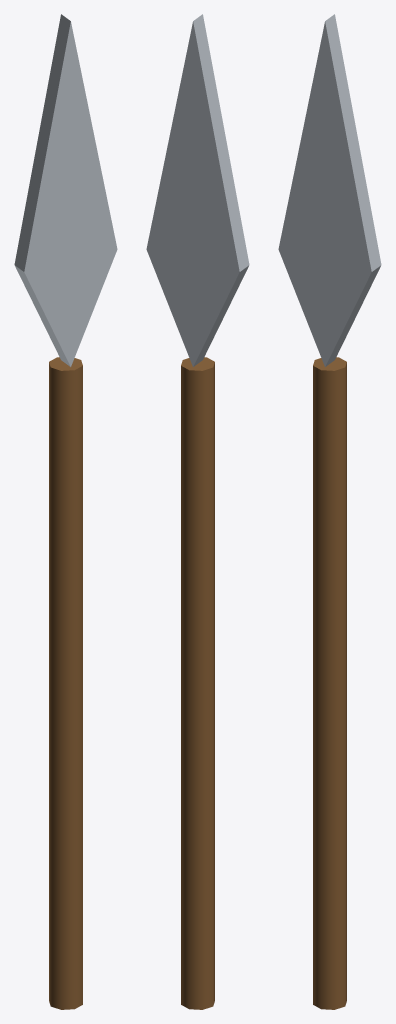
The model's file is zulu-iklwa.glb.
3 views of the same model, side by side, from view 1: azimuth 30°, elevation 25°; view 2: azimuth 150°, elevation 25°; view 3: azimuth 330°, elevation 25° (orthographic).
Parts seen in each view (by area): view 1: Haft, Blade; view 2: Haft, Blade; view 3: Haft, Blade.
Boxes of the visible parts, bbox=[...] form: Haft: bbox=[49, 357, 82, 1009]; Blade: bbox=[14, 14, 117, 366]; Haft: bbox=[181, 357, 214, 1009]; Blade: bbox=[146, 14, 249, 366]; Haft: bbox=[313, 357, 346, 1009]; Blade: bbox=[278, 14, 381, 366].
Bounding box in the file's own units: 0.11 × 1.11 × 0.036.
